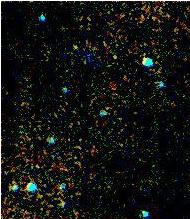star: (60, 31, 90, 61)
